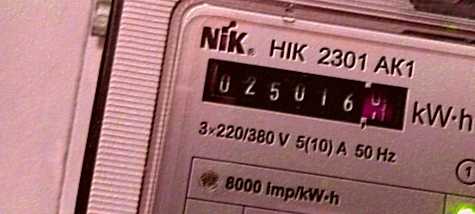0: (292, 80, 309, 105), (216, 72, 233, 96), (368, 87, 383, 108)
1: (317, 83, 331, 109), (368, 110, 378, 122)
2: (242, 73, 259, 98)
5: (267, 80, 281, 102)
6: (340, 89, 357, 116)
screen: (191, 47, 420, 141)
